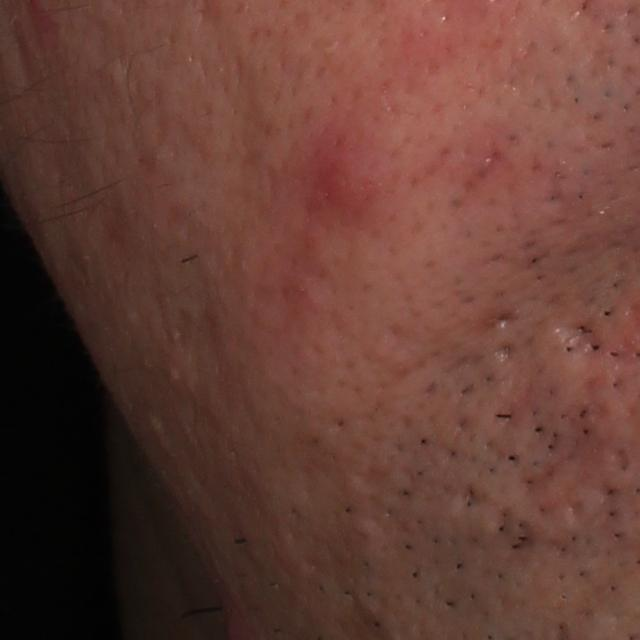atrophic_scar: (490, 341, 513, 363)
hypertrophic_scar: (524, 314, 599, 436)
papule: (309, 137, 386, 220)
